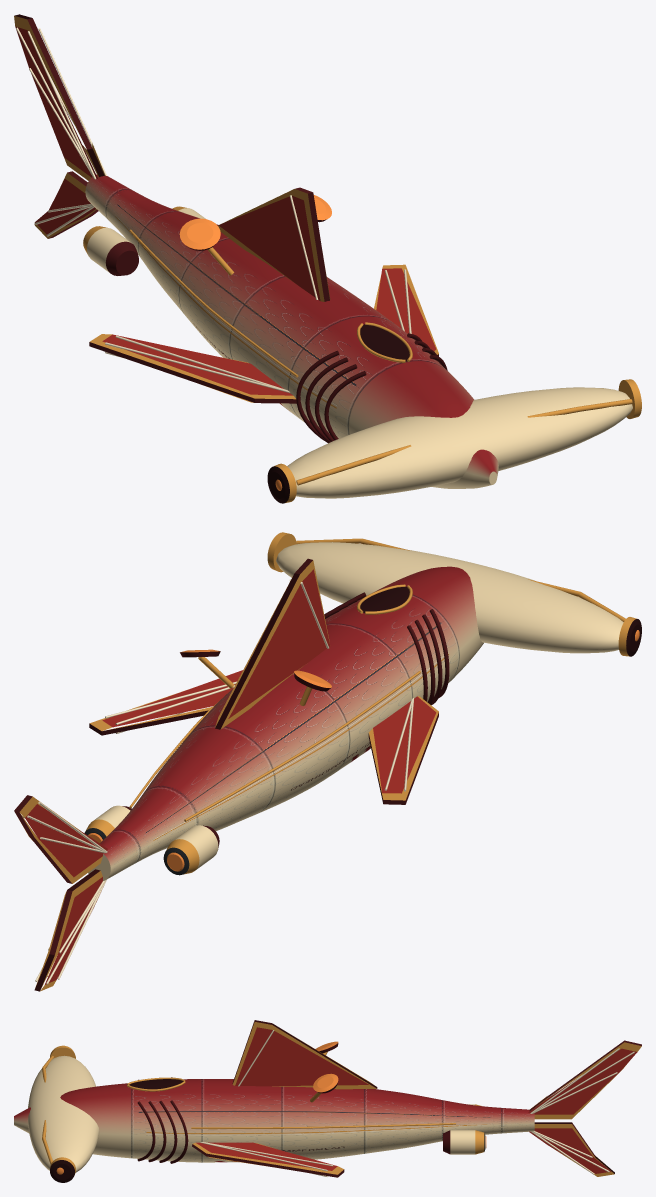
The picture shows the model from 3 angles, top to bottom: view 1: azimuth 30°, elevation 25°; view 2: azimuth 150°, elevation 25°; view 3: azimuth 270°, elevation 25°; orthographic projection. The views are drawn at different scales.
Parts seen in each view (by area): view 1: hammerhead_hull; view 2: hammerhead_hull; view 3: hammerhead_hull.
Part boxes in pixels (x1,y1,x2,y2): hammerhead_hull: (14,14,641,503); hammerhead_hull: (14,532,641,991); hammerhead_hull: (14,1020,641,1182).
Bounding box in the file's own units: 34.14 × 21.29 × 78.
1 material, 1 textured.
